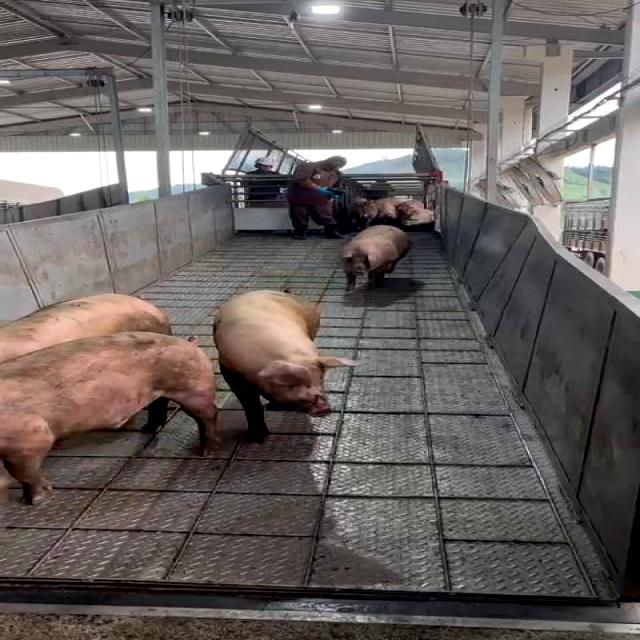pig: (0, 331, 218, 504), (213, 290, 358, 441), (0, 294, 171, 362), (341, 225, 410, 291)
